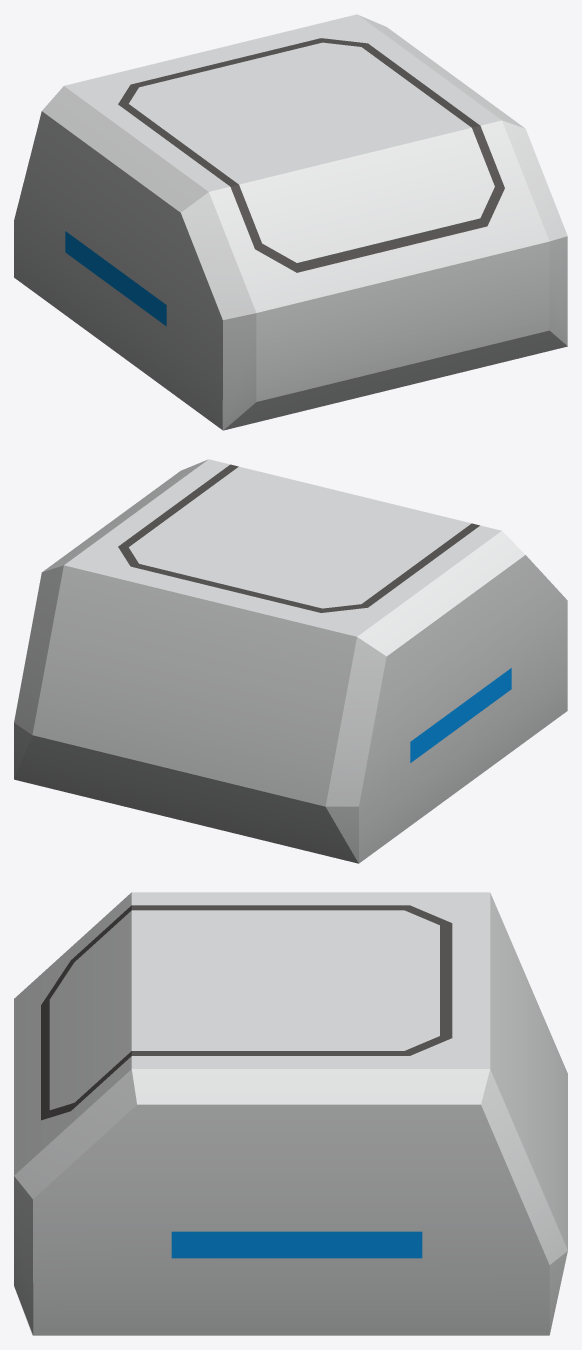
3 views of the same model, one above another, from view 1: azimuth 30°, elevation 25°; view 2: azimuth 150°, elevation 25°; view 3: azimuth 270°, elevation 25° (orthographic). The views are drawn at different scales.
Visible parts, largest first — view 1: Box_001; view 2: Box_001; view 3: Box_001.
Boxes of the visible parts, x1=… form: Box_001: x1=14, y1=14, x2=567, y2=430; Box_001: x1=14, y1=459, x2=567, y2=863; Box_001: x1=14, y1=892, x2=567, y2=1335.
Size of the model in its own units: 80 by 90 by 45.
